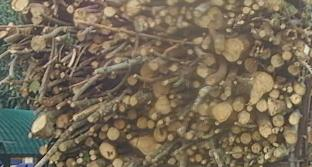large: (250, 74, 273, 104), (223, 39, 243, 61), (213, 103, 232, 122), (138, 136, 157, 155), (31, 115, 46, 133), (100, 143, 115, 159), (12, 0, 28, 11)
medium: (156, 96, 171, 114), (154, 81, 170, 97), (141, 63, 158, 78), (32, 36, 46, 51), (127, 0, 140, 15), (135, 17, 148, 31), (55, 114, 67, 128), (260, 125, 272, 138), (272, 54, 284, 67), (245, 59, 257, 72), (101, 20, 112, 34), (107, 128, 119, 140), (285, 131, 297, 143), (154, 129, 166, 141), (273, 115, 284, 127), (238, 112, 250, 123), (198, 103, 208, 116), (295, 84, 306, 95), (232, 147, 242, 159), (30, 7, 43, 16), (137, 118, 148, 128), (200, 16, 210, 27), (289, 114, 299, 125), (288, 65, 299, 75), (290, 94, 301, 104), (257, 101, 267, 112), (29, 82, 39, 93), (149, 60, 159, 70), (197, 68, 207, 78), (127, 75, 137, 85), (242, 133, 251, 144), (198, 123, 210, 131), (234, 102, 244, 111), (128, 110, 137, 120), (282, 51, 292, 60), (270, 89, 279, 98), (85, 138, 94, 147), (105, 8, 115, 16), (32, 16, 42, 24), (252, 144, 260, 153), (115, 120, 124, 128), (52, 153, 62, 160), (113, 159, 122, 166), (78, 32, 85, 41), (205, 77, 214, 84), (39, 147, 46, 155), (130, 97, 137, 105), (59, 144, 66, 152), (168, 158, 176, 165), (170, 8, 178, 15), (148, 120, 154, 129), (67, 158, 73, 166), (232, 127, 240, 133), (259, 30, 265, 37), (275, 150, 281, 157), (67, 6, 73, 13), (141, 48, 147, 55), (199, 90, 205, 96), (244, 7, 250, 13), (186, 133, 192, 139), (77, 158, 82, 164), (88, 117, 93, 122), (253, 5, 258, 10), (274, 6, 279, 11), (57, 162, 63, 166), (200, 117, 204, 120)
small: (169, 65, 178, 71), (196, 155, 202, 162), (194, 81, 199, 88), (201, 160, 207, 165), (92, 62, 98, 67), (222, 94, 227, 100), (230, 137, 234, 144), (237, 60, 242, 65), (158, 120, 163, 125), (104, 43, 109, 48), (91, 155, 96, 160), (160, 11, 165, 16), (115, 58, 120, 63), (226, 91, 231, 96), (188, 149, 193, 154), (236, 138, 240, 144), (169, 134, 173, 140), (120, 106, 124, 112), (247, 107, 252, 111), (72, 162, 77, 166), (288, 103, 292, 108), (90, 150, 94, 155), (127, 134, 131, 139), (219, 81, 224, 85), (188, 50, 193, 54), (203, 44, 207, 49), (61, 73, 65, 78), (183, 22, 187, 27), (230, 13, 235, 17), (288, 87, 292, 92), (192, 124, 197, 128), (166, 17, 170, 22), (190, 158, 194, 162), (179, 116, 183, 120), (166, 117, 170, 121), (49, 160, 53, 164), (79, 153, 83, 157), (67, 100, 71, 104), (99, 98, 103, 102), (70, 103, 74, 107), (93, 133, 97, 137), (218, 140, 222, 144), (181, 10, 185, 14), (150, 49, 154, 53), (173, 18, 177, 22), (274, 85, 278, 89), (164, 80, 168, 84), (227, 5, 231, 9), (250, 52, 253, 57), (280, 95, 283, 100), (245, 147, 248, 152), (264, 148, 267, 153), (151, 22, 154, 27), (226, 29, 231, 32), (255, 53, 258, 57), (193, 146, 197, 149), (265, 155, 268, 159), (124, 128, 127, 132), (56, 107, 60, 110), (189, 113, 193, 116), (59, 87, 62, 91), (170, 95, 174, 98), (215, 122, 219, 125), (51, 74, 53, 79), (257, 47, 260, 50), (260, 50, 263, 53), (256, 50, 259, 53), (283, 88, 286, 91), (215, 130, 218, 133), (127, 125, 130, 128), (55, 161, 58, 164), (115, 115, 118, 118), (188, 15, 191, 18), (157, 42, 160, 45), (131, 38, 134, 41), (142, 6, 145, 9), (106, 55, 109, 58), (91, 128, 93, 131), (101, 51, 104, 53)
